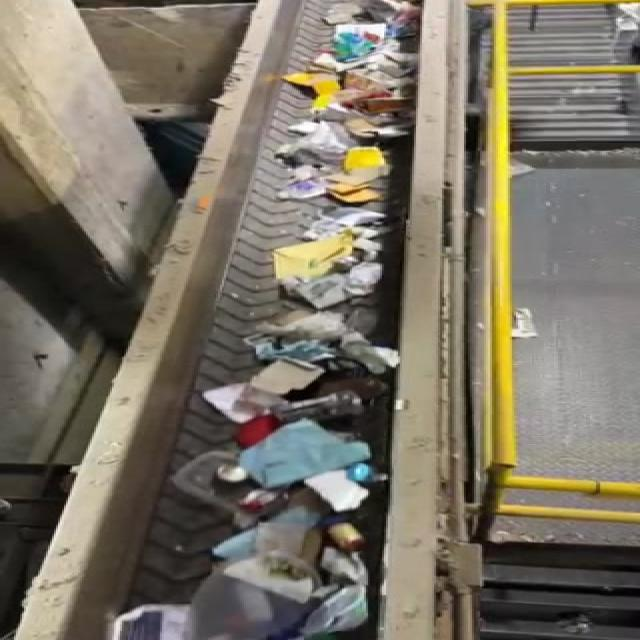metal: (320, 515, 378, 555)
paper: (228, 418, 374, 478), (225, 554, 328, 609)
